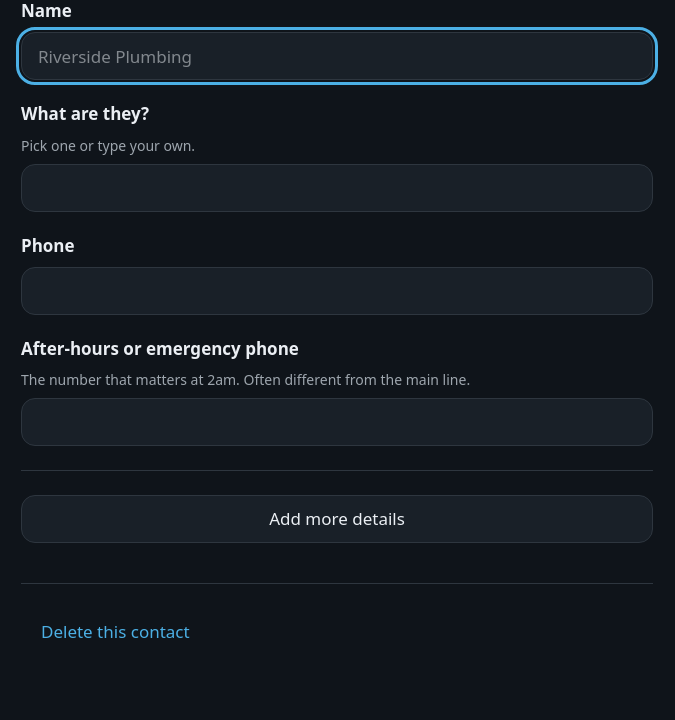
Test: the record form › keeps the long tail of fields out of the way until asked
The width and height of the screenshot is (675, 720).
Earlier steps of the test are not shown.
(page scrolled)
Expected: the field labelled "Name" is shown, [21,32,653,80]
Expected: the field labelled "account number" is not shown
Click the button "Add more details": (337, 519) [21,495,653,543]
(page scrolled)
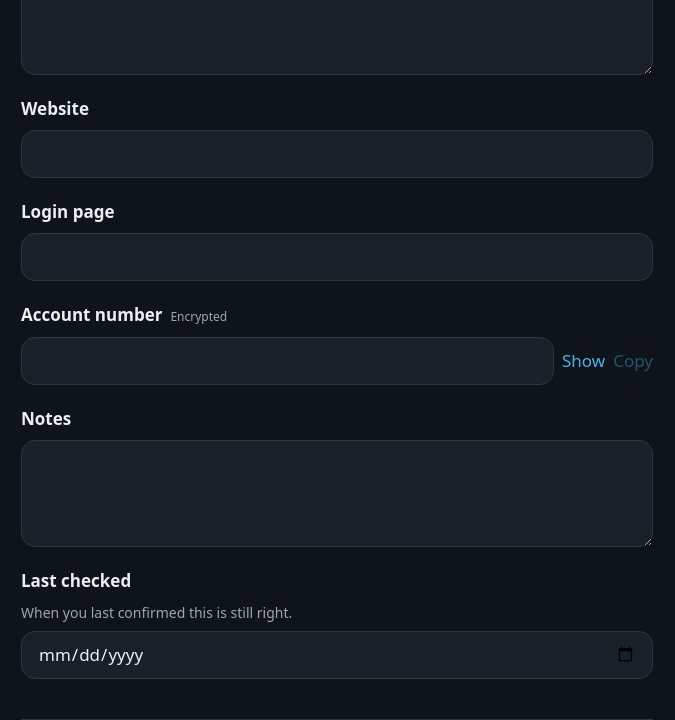
Expected: the password field labelled "Account number" is shown, [21,337,554,385]
